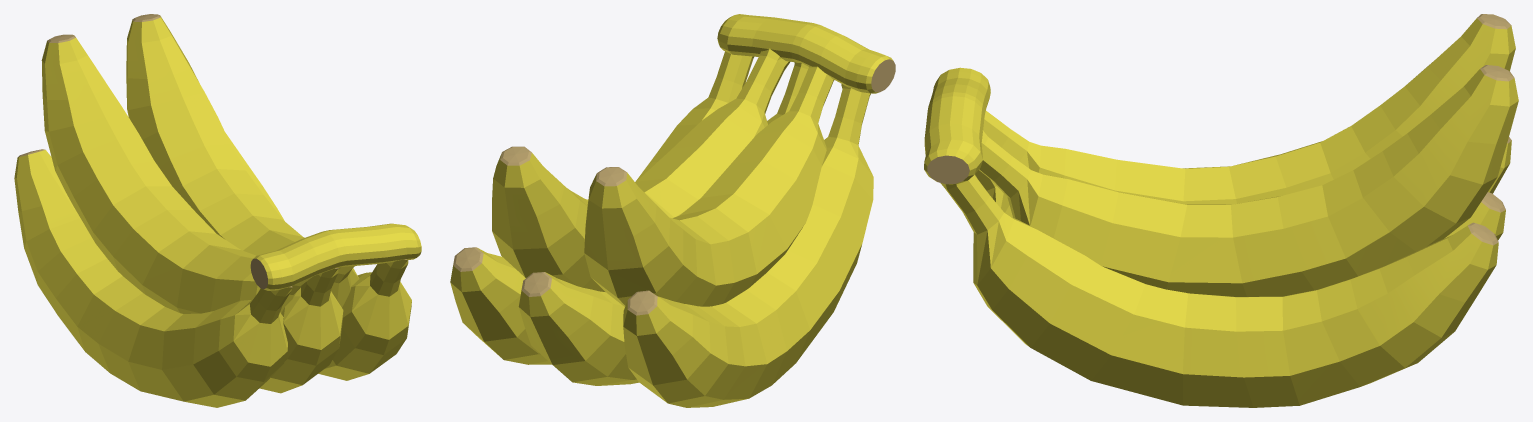
Rendered from banana.fbx.
3 renders of one model, left to right at view 1: azimuth 30°, elevation 25°; view 2: azimuth 150°, elevation 25°; view 3: azimuth 270°, elevation 25°, orthographic. The views are drawn at different scales.
Visible parts, largest first — view 1: Cylinder_1.001; view 2: Cylinder_1.001; view 3: Cylinder_1.001.
Boxes of the visible parts, x1=… form: Cylinder_1.001: x1=14, y1=14, x2=421, y2=407; Cylinder_1.001: x1=450, y1=14, x2=895, y2=407; Cylinder_1.001: x1=924, y1=14, x2=1518, y2=407.
Size of the model in its own units: 394 by 429 by 722.
